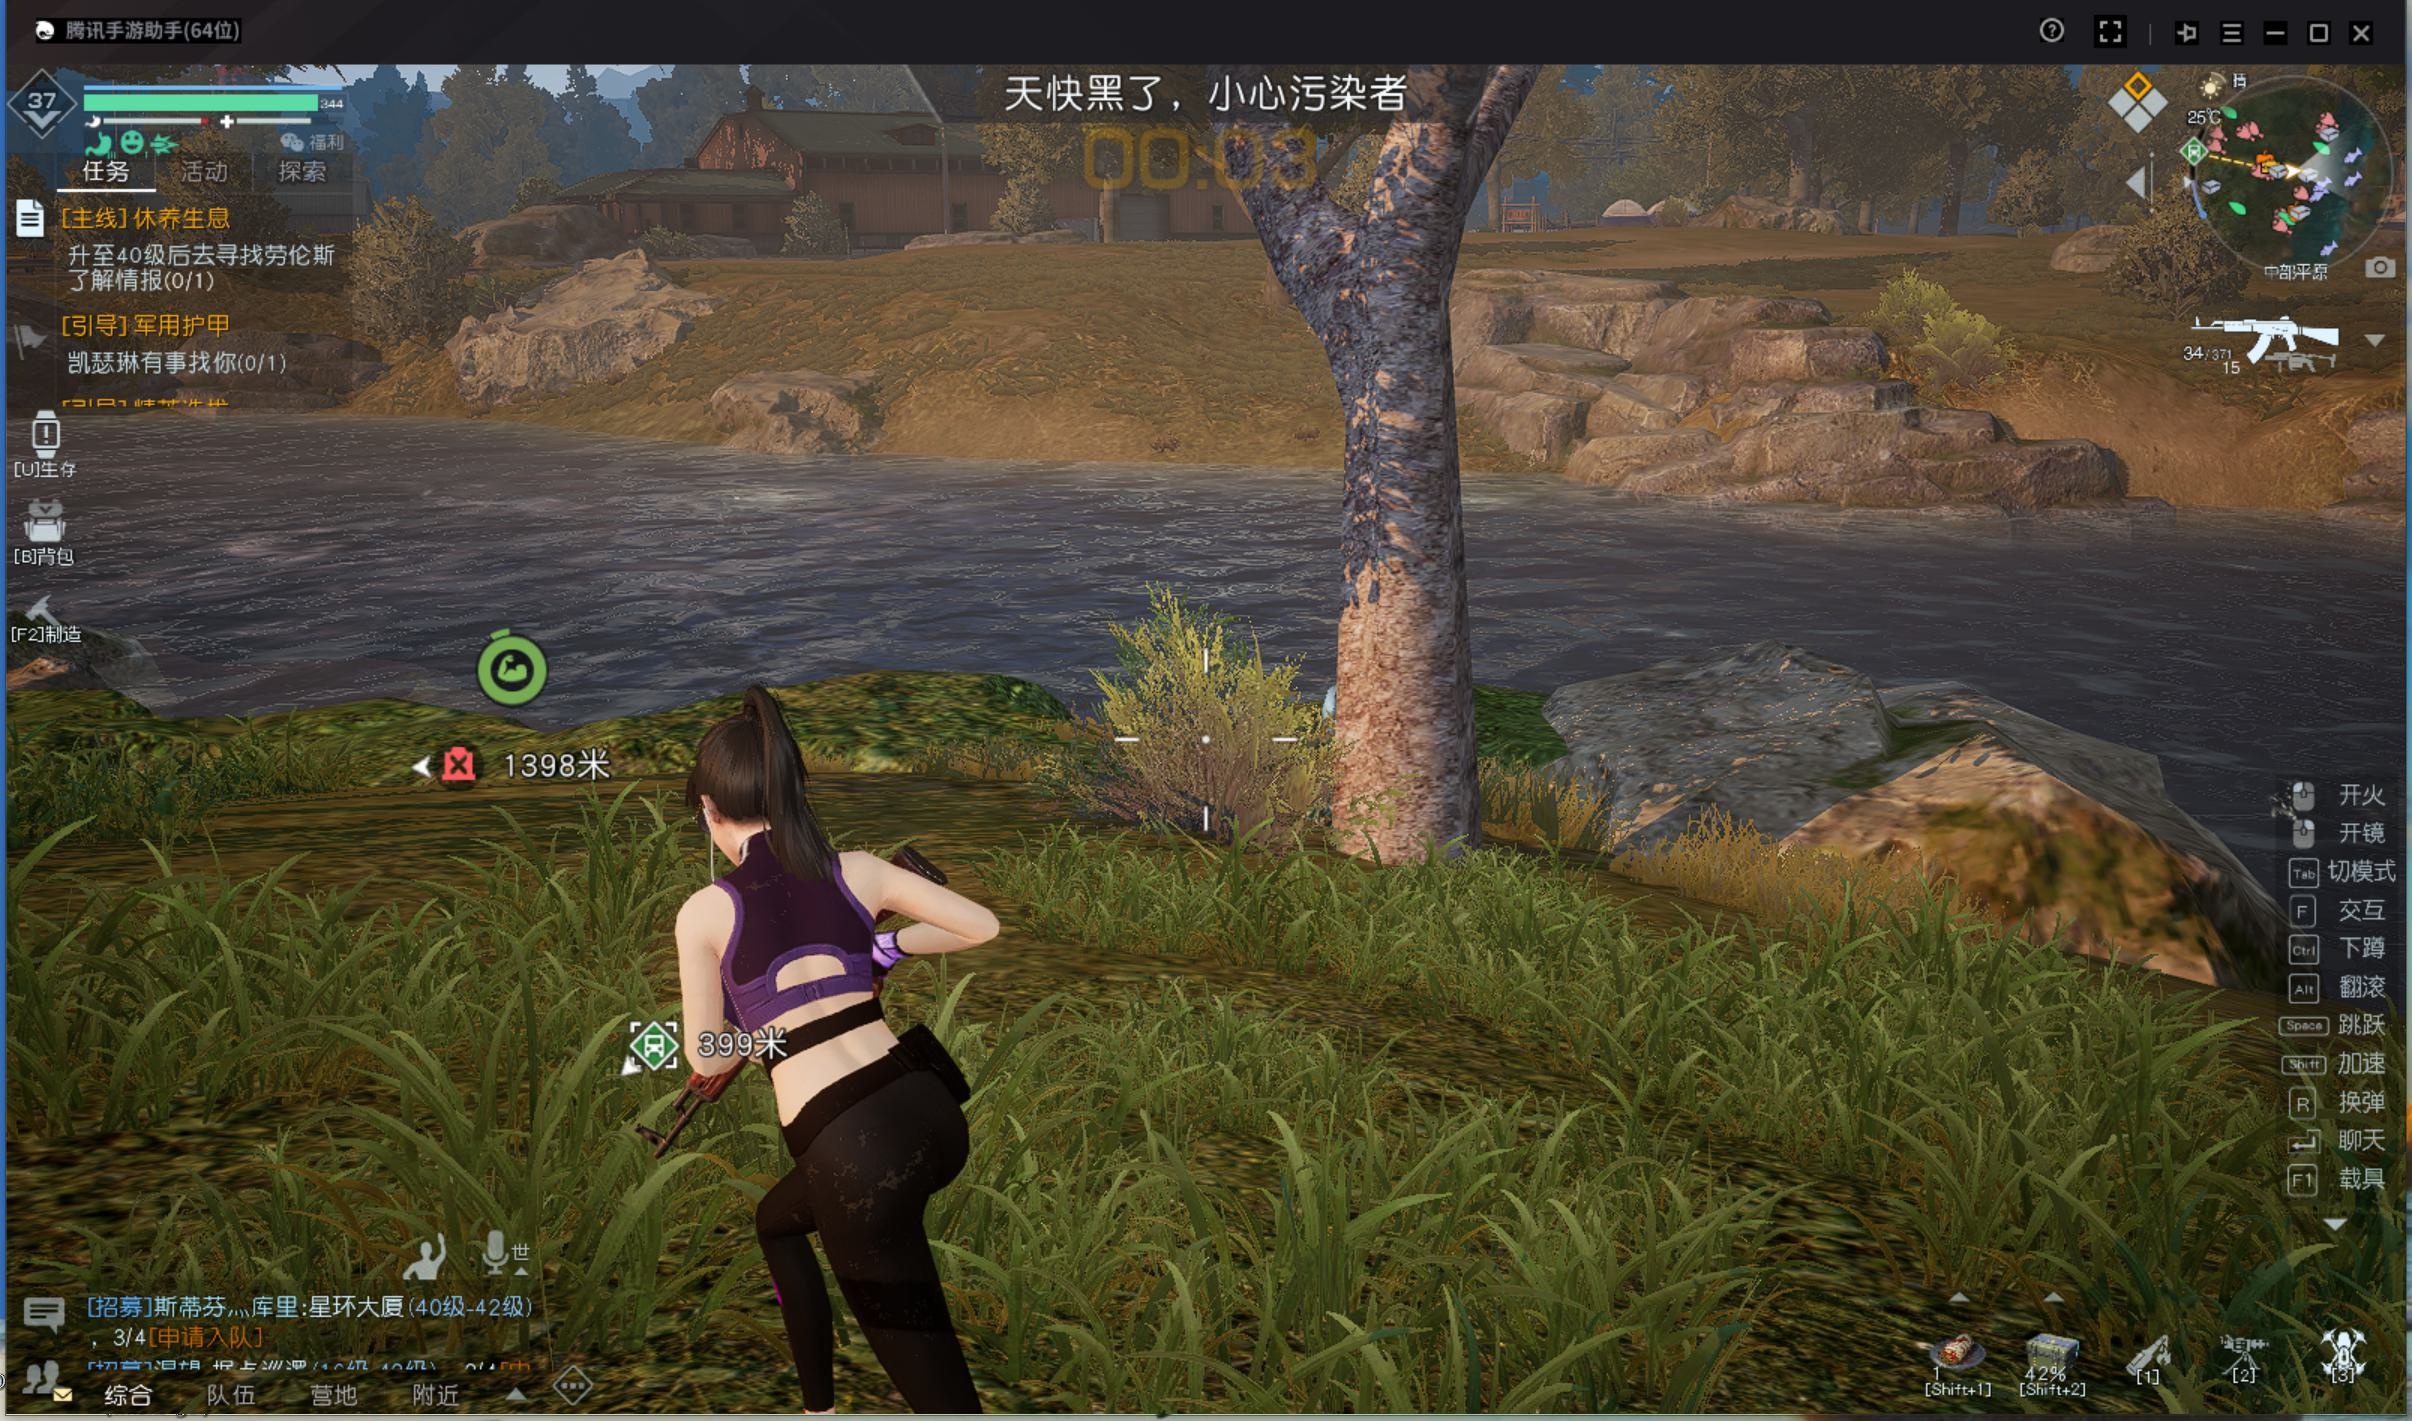tree: (1282, 298, 1490, 871)
